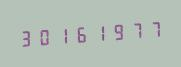nine: (107, 18, 124, 44)
one: (53, 22, 70, 48), (89, 20, 106, 45)
seven: (125, 17, 142, 43), (143, 16, 160, 42)
six: (71, 21, 88, 47)
three: (17, 25, 34, 50)
zero: (35, 23, 52, 49)
